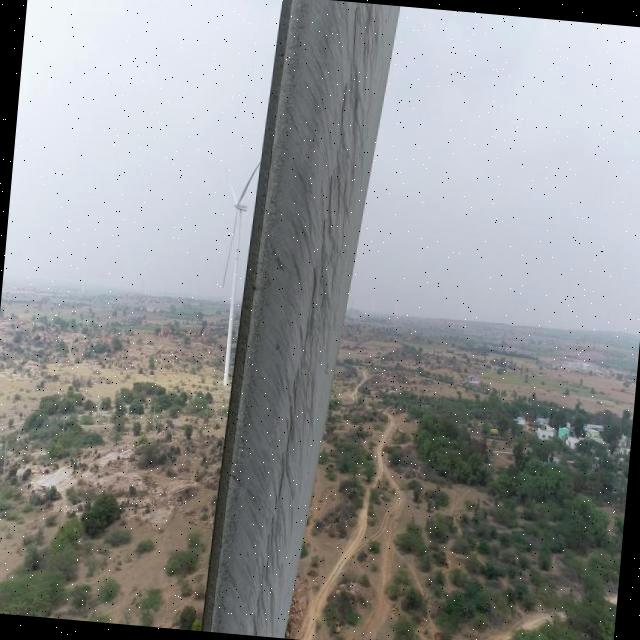Dirt: (209, 0, 402, 639)
